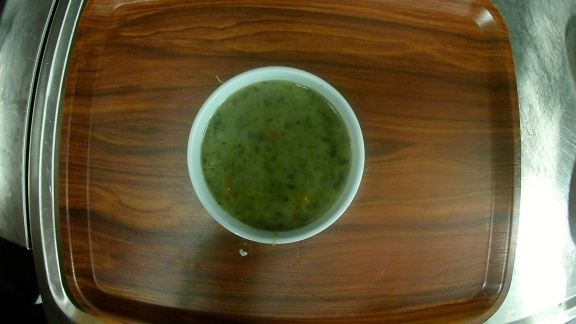brokolicorba: (185, 64, 368, 246)
